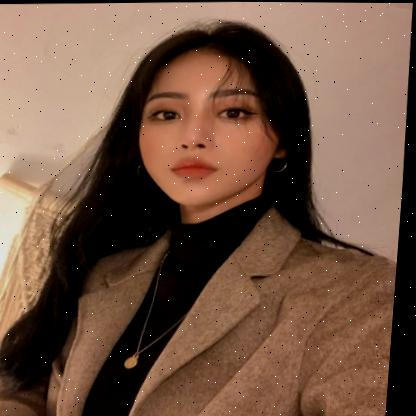person: (102, 27, 336, 219)
